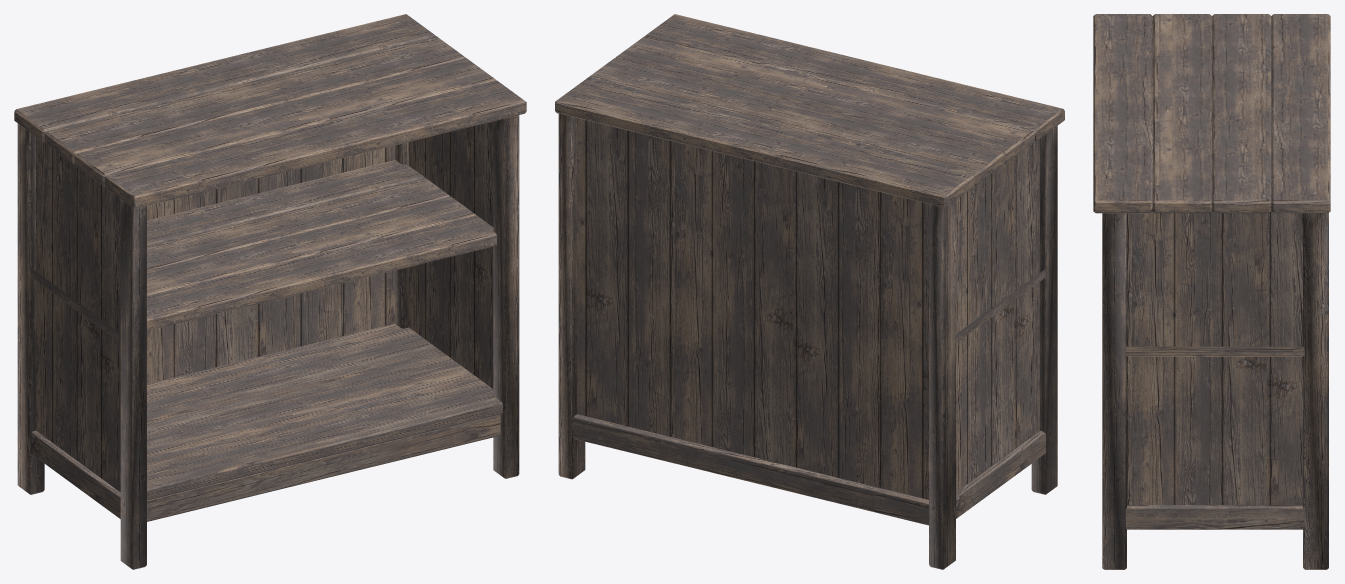
The model's file is khzena.fbx.
The picture shows the model from 3 angles, left to right: view 1: azimuth 30°, elevation 25°; view 2: azimuth 150°, elevation 25°; view 3: azimuth 270°, elevation 25°; orthographic projection.
Visible parts, largest first — view 1: WoodCupboard02.003; view 2: WoodCupboard02.003; view 3: WoodCupboard02.003.
Part boxes in pixels (box(x1,y1,x2,y2)): WoodCupboard02.003: box(14, 14, 526, 569); WoodCupboard02.003: box(555, 14, 1064, 569); WoodCupboard02.003: box(1093, 14, 1330, 569).
Bounding box in the file's own units: 113 × 103 × 59.81.
